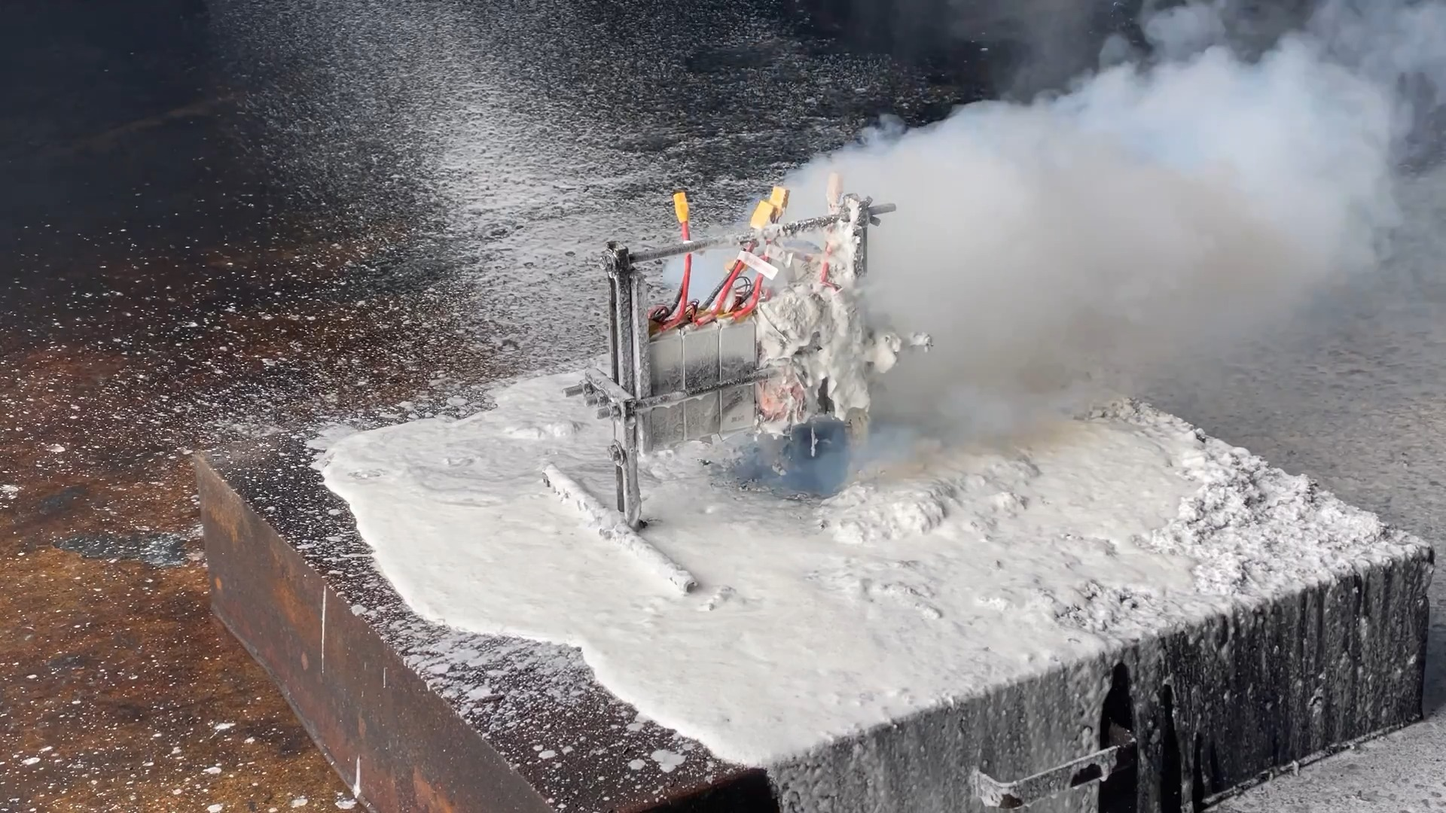smoke: (779, 1, 1445, 495)
